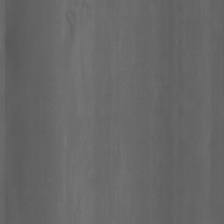water_spot: (64, 8, 88, 38)
